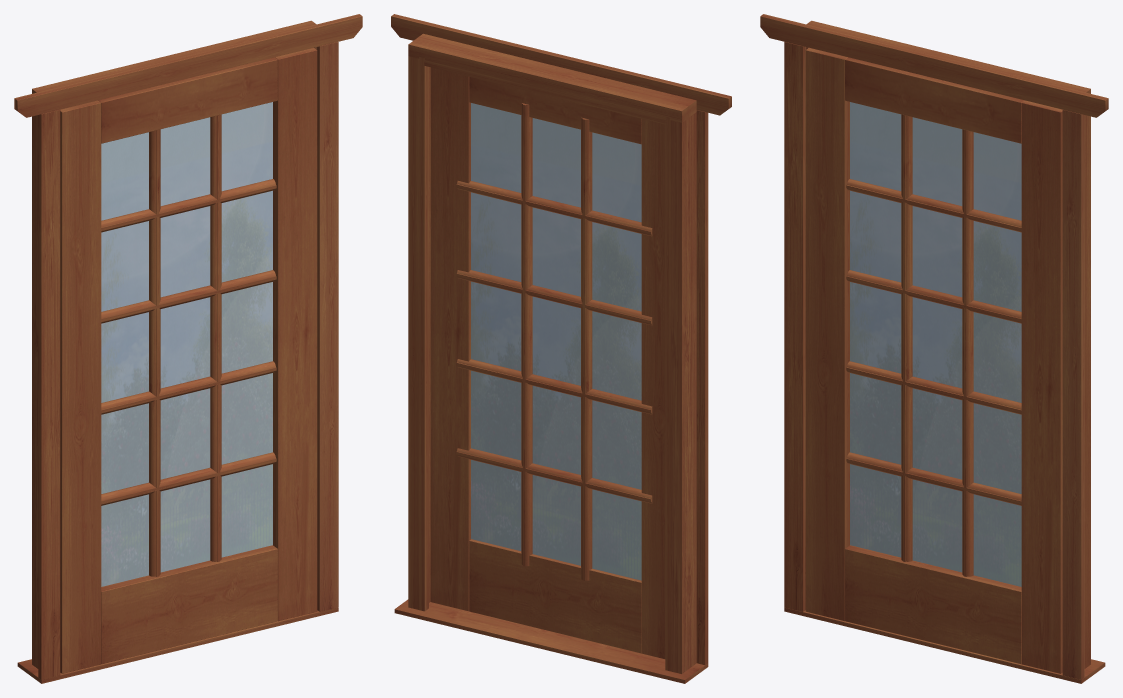
The picture shows the model from 3 angles, left to right: view 1: azimuth 30°, elevation 25°; view 2: azimuth 150°, elevation 25°; view 3: azimuth 330°, elevation 25°; orthographic projection. The views are drawn at different scales.
Parts seen in each view (by area): view 1: glass, door_right, door_left, door_bottom, trim_left, trim_right, trim_top, door_top, muttin001, muttin002, box_left, muttin004 (+5 smaller); view 2: glass, door_right, box_left, door_left, door_bottom, box_right, box_top, trim_left, threshold, stop_right, muttin002, muttin001 (+8 smaller); view 3: glass, door_left, door_right, door_bottom, trim_right, trim_left, trim_top, door_top, muttin001, muttin002, box_right, muttin005 (+5 smaller).
Part boxes in pixels (<box>): glass: <box>101,102,272,586</box>; door_right: <box>273,48,317,621</box>; door_left: <box>60,100,101,673</box>; door_bottom: <box>101,545,277,664</box>; trim_left: <box>38,110,60,679</box>; trim_right: <box>316,42,338,611</box>; trim_top: <box>14,14,362,117</box>; door_top: <box>98,57,277,143</box>; muttin001: <box>149,129,160,576</box>; muttin002: <box>210,114,221,561</box>; box_left: <box>32,115,38,668</box>; muttin004: <box>101,270,276,323</box>; glass: <box>471,103,641,580</box>; door_right: <box>430,67,470,611</box>; box_left: <box>670,112,696,673</box>; door_left: <box>641,119,665,659</box>; door_bottom: <box>469,539,641,653</box>; box_right: <box>408,56,430,609</box>; box_top: <box>408,33,696,122</box>; trim_left: <box>696,110,708,665</box>; threshold: <box>394,599,708,683</box>; stop_right: <box>419,57,428,611</box>; muttin002: <box>521,103,532,566</box>; muttin001: <box>581,117,592,580</box>; glass: <box>850,102,1021,586</box>; door_left: <box>805,48,849,621</box>; door_right: <box>1021,100,1062,673</box>; door_bottom: <box>845,545,1021,664</box>; trim_right: <box>1062,110,1084,679</box>; trim_left: <box>784,42,806,611</box>; trim_top: <box>760,14,1108,117</box>; door_top: <box>845,57,1024,143</box>; muttin001: <box>901,114,912,561</box>; muttin002: <box>962,129,973,576</box>; box_right: <box>1084,115,1090,668</box>; muttin005: <box>846,361,1021,414</box>.
Bounding box in the file's own units: 46 × 75 × 5.5.
Materials: 9 (9 with a texture image).
